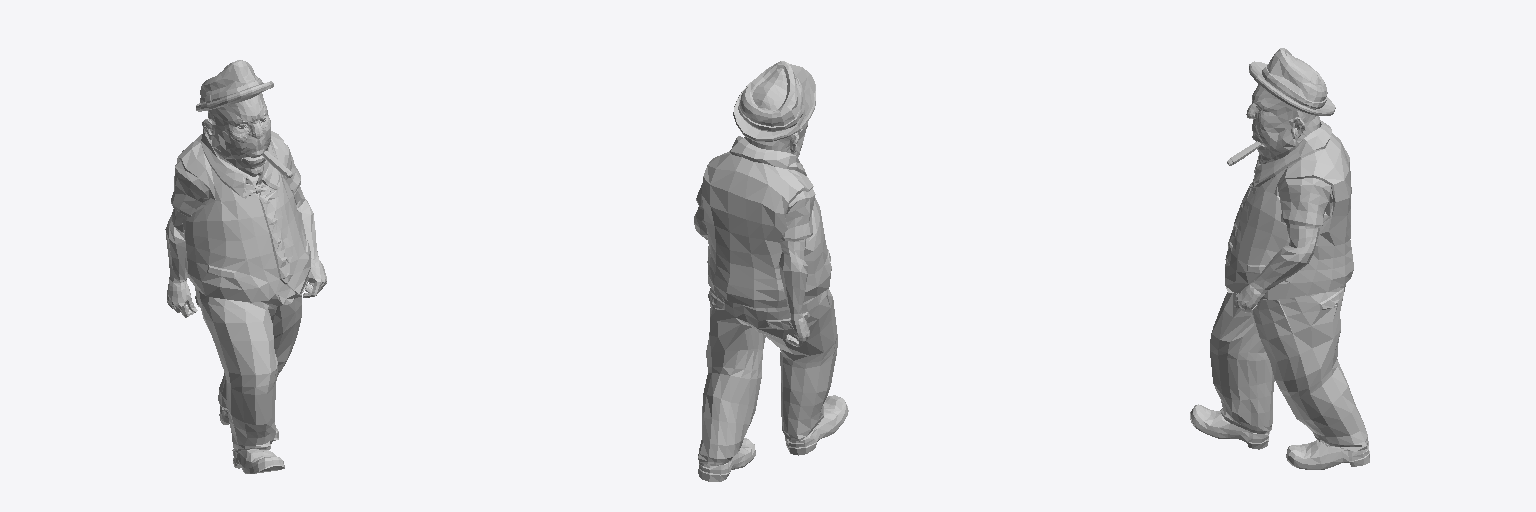
File: walk0020.obj
The picture shows the model from 3 angles: view 1: azimuth 30°, elevation 25°; view 2: azimuth 150°, elevation 25°; view 3: azimuth 270°, elevation 25°; orthographic projection.
Visible parts, largest first — view 1: mixamorig:Jacket_Geo, mixamorig:Pants_Geo, mixamorig:Head_Geo, mixamorig:Arms_Geo, mixamorig:Hat_Geo, mixamorig:Shoes_Geo; view 2: mixamorig:Jacket_Geo, mixamorig:Pants_Geo, mixamorig:Hat_Geo, mixamorig:Arms_Geo, mixamorig:Shoes_Geo, mixamorig:Head_Geo; view 3: mixamorig:Pants_Geo, mixamorig:Jacket_Geo, mixamorig:Hat_Geo, mixamorig:Head_Geo, mixamorig:Shoes_Geo, mixamorig:Arms_Geo.
Part boxes in pixels (left/top/right/bottom): mixamorig:Jacket_Geo: left=171, top=128, right=310, bottom=304; mixamorig:Pants_Geo: left=195, top=288, right=301, bottom=450; mixamorig:Head_Geo: left=202, top=93, right=270, bottom=185; mixamorig:Arms_Geo: left=165, top=186, right=326, bottom=317; mixamorig:Hat_Geo: left=196, top=60, right=273, bottom=111; mixamorig:Shoes_Geo: left=219, top=406, right=284, bottom=473; mixamorig:Jacket_Geo: left=696, top=136, right=831, bottom=307; mixamorig:Pants_Geo: left=698, top=288, right=837, bottom=465; mixamorig:Hat_Geo: left=733, top=61, right=815, bottom=141; mixamorig:Arms_Geo: left=694, top=207, right=809, bottom=346; mixamorig:Shoes_Geo: left=698, top=395, right=848, bottom=481; mixamorig:Head_Geo: left=744, top=122, right=807, bottom=156; mixamorig:Pants_Geo: left=1210, top=284, right=1368, bottom=451; mixamorig:Jacket_Geo: left=1225, top=121, right=1353, bottom=299; mixamorig:Hat_Geo: left=1249, top=48, right=1335, bottom=115; mixamorig:Head_Geo: left=1246, top=84, right=1320, bottom=164; mixamorig:Shoes_Geo: left=1190, top=404, right=1369, bottom=469; mixamorig:Arms_Geo: left=1234, top=223, right=1319, bottom=312.
Bounding box in the file's own units: 0.6574 × 1.96 × 0.8063.